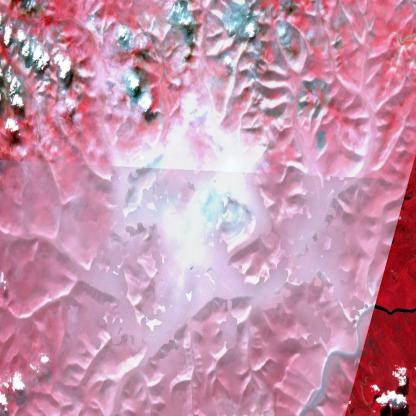fire: (198, 183, 253, 242)
